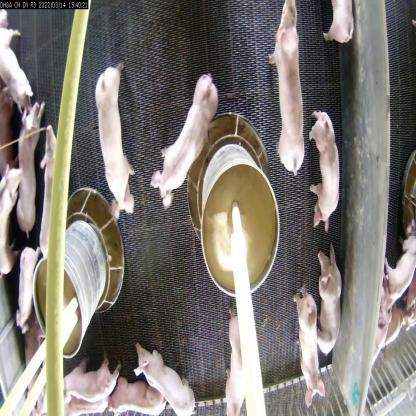Pig: (153, 69, 227, 206), (268, 1, 316, 185), (98, 56, 139, 215), (37, 114, 77, 269), (12, 76, 50, 235), (0, 8, 36, 149), (302, 109, 338, 233), (127, 339, 183, 415), (54, 345, 113, 402), (316, 259, 346, 358), (0, 161, 24, 284), (93, 366, 148, 416), (296, 293, 323, 394), (12, 235, 40, 315), (226, 325, 254, 400)
